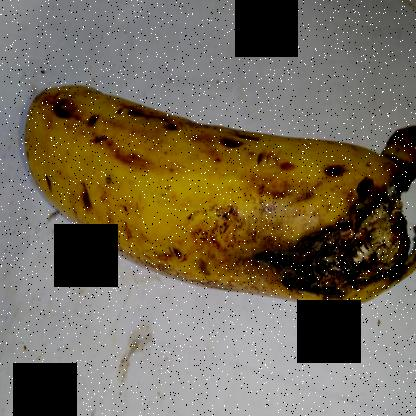ripe: (22, 71, 243, 319)
rotten: (238, 96, 415, 349)
